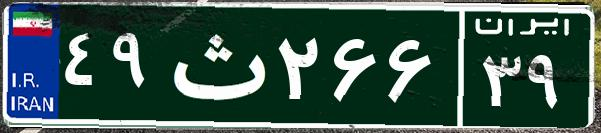2: (273, 28, 330, 110)
3: (475, 38, 525, 113)
4: (57, 26, 110, 107)
6: (385, 28, 445, 110), (330, 28, 385, 110)
9: (110, 28, 158, 105), (525, 38, 570, 115)
ث: (158, 15, 273, 115)
